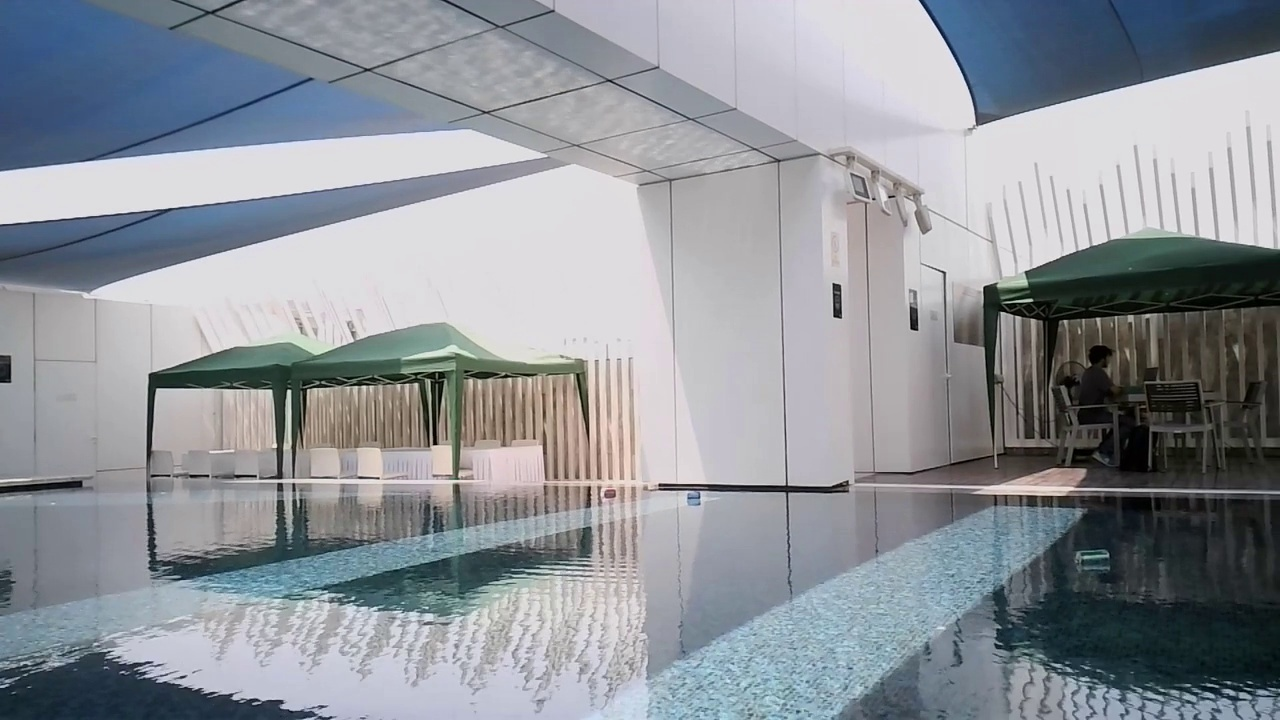debris: (1072, 547, 1115, 578), (683, 487, 703, 504), (595, 486, 619, 500)
